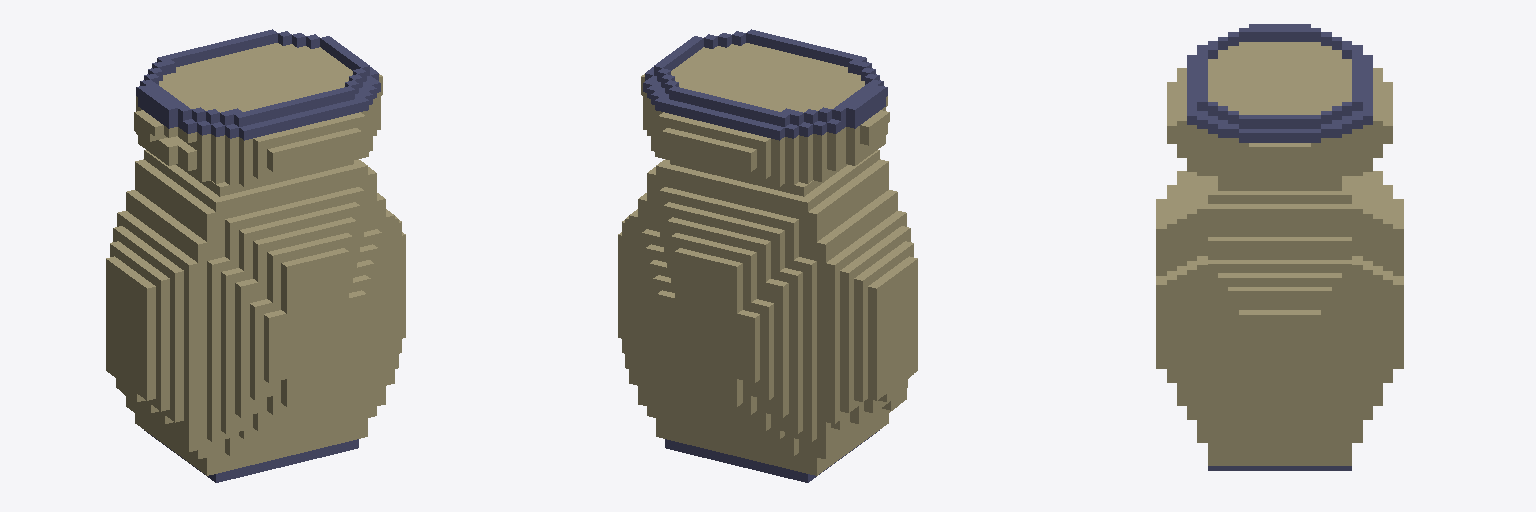
3 views of the same model, side by side, from view 1: azimuth 30°, elevation 25°; view 2: azimuth 150°, elevation 25°; view 3: azimuth 270°, elevation 25° (orthographic).
Visible parts, largest first — view 1: object 1; view 2: object 1; view 3: object 1.
Part boxes in pixels (bbox=[...]): object 1: bbox=[106, 29, 405, 482]; object 1: bbox=[618, 29, 917, 482]; object 1: bbox=[1156, 24, 1403, 470].
Size of the model in its own units: 2.9 by 3.9 by 2.4.
Materials: 1 (1 with a texture image).